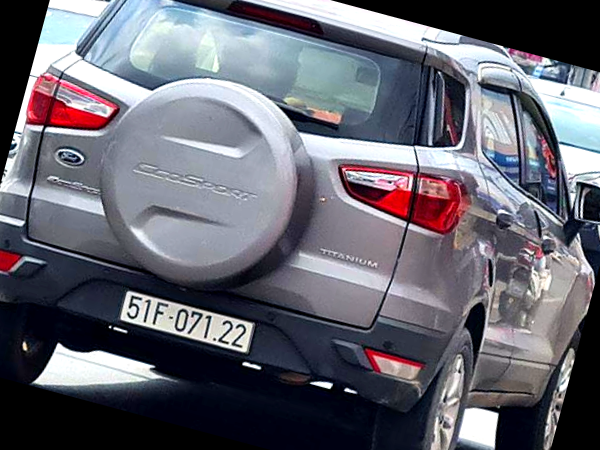lisence: (119, 292, 251, 353)
